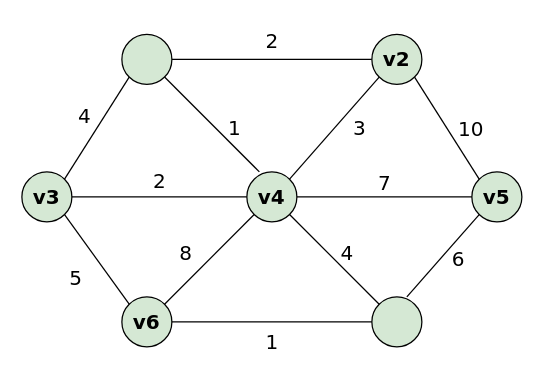
Some shapes in this 544 by 381 pixel diagram are drawn without their labels. Each missing label, with the centre of its shape:
v1: (x=146, y=58)
v7: (x=396, y=321)
